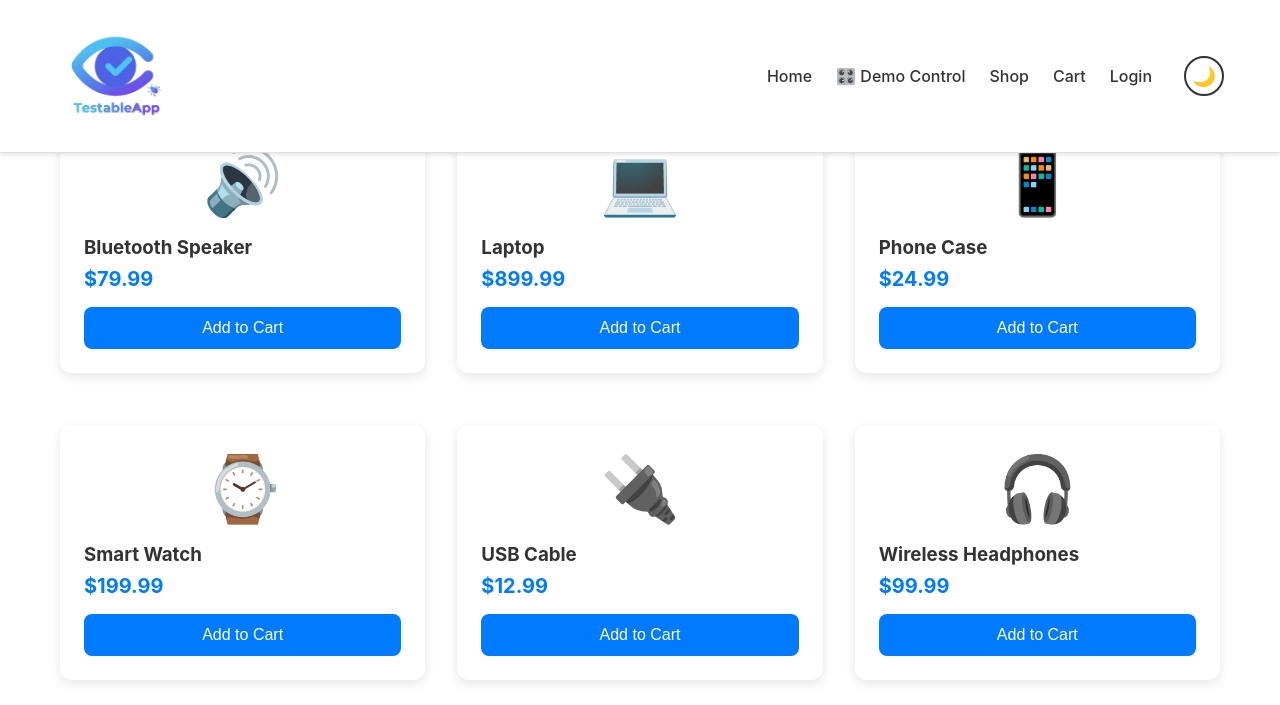
Shopping Flow › Cart Page › should display cart items correctly
The width and height of the screenshot is (1280, 705).
(page scrolled)
Click the button with test id "add-to-cart-1" at (1038, 635), box x1=879 y1=614 x2=1196 y2=656
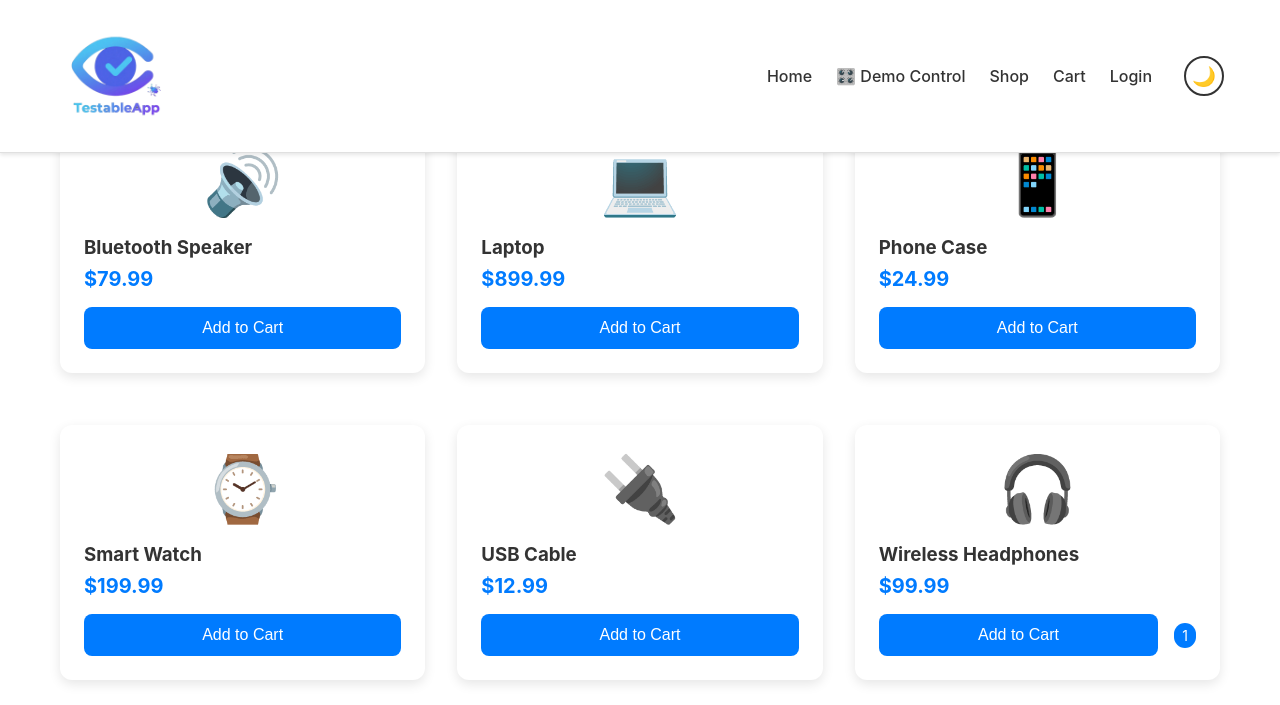
Open "/shop"
(page scrolled)
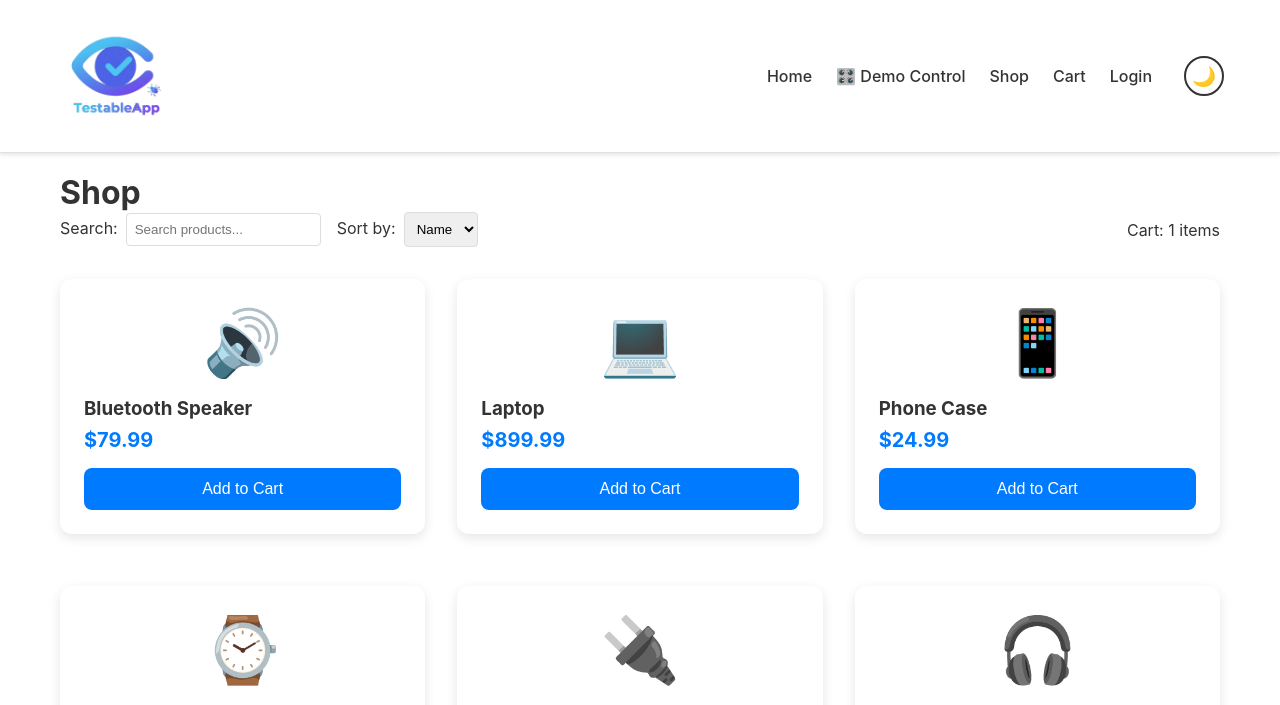
Scroll
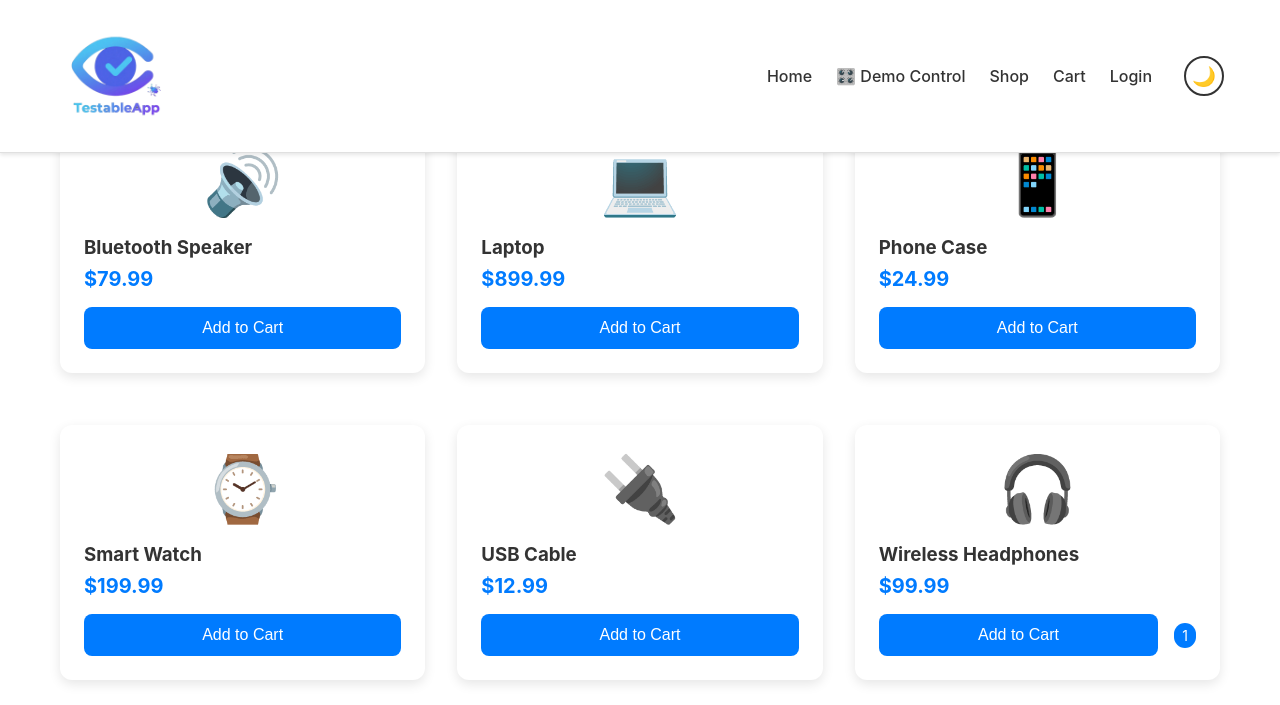
Click the button with test id "add-to-cart-2" at (243, 635), box x1=84 y1=614 x2=401 y2=656
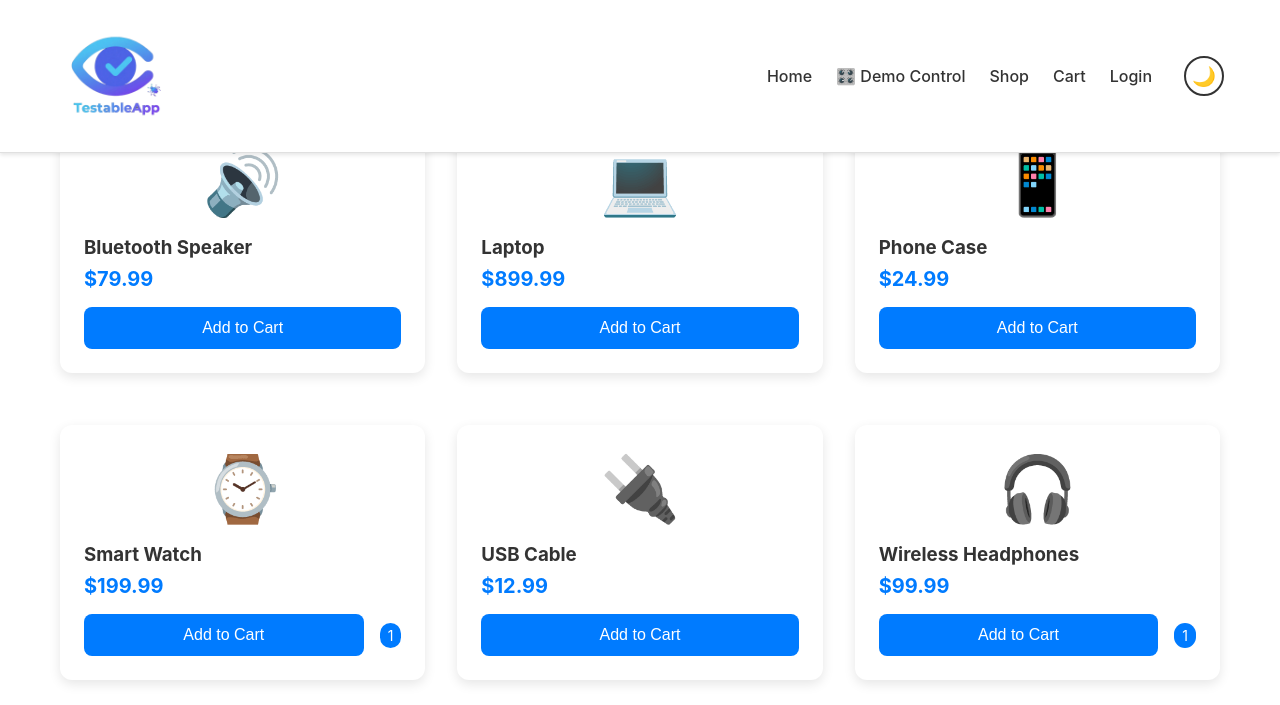
Open "/cart"
(page scrolled)
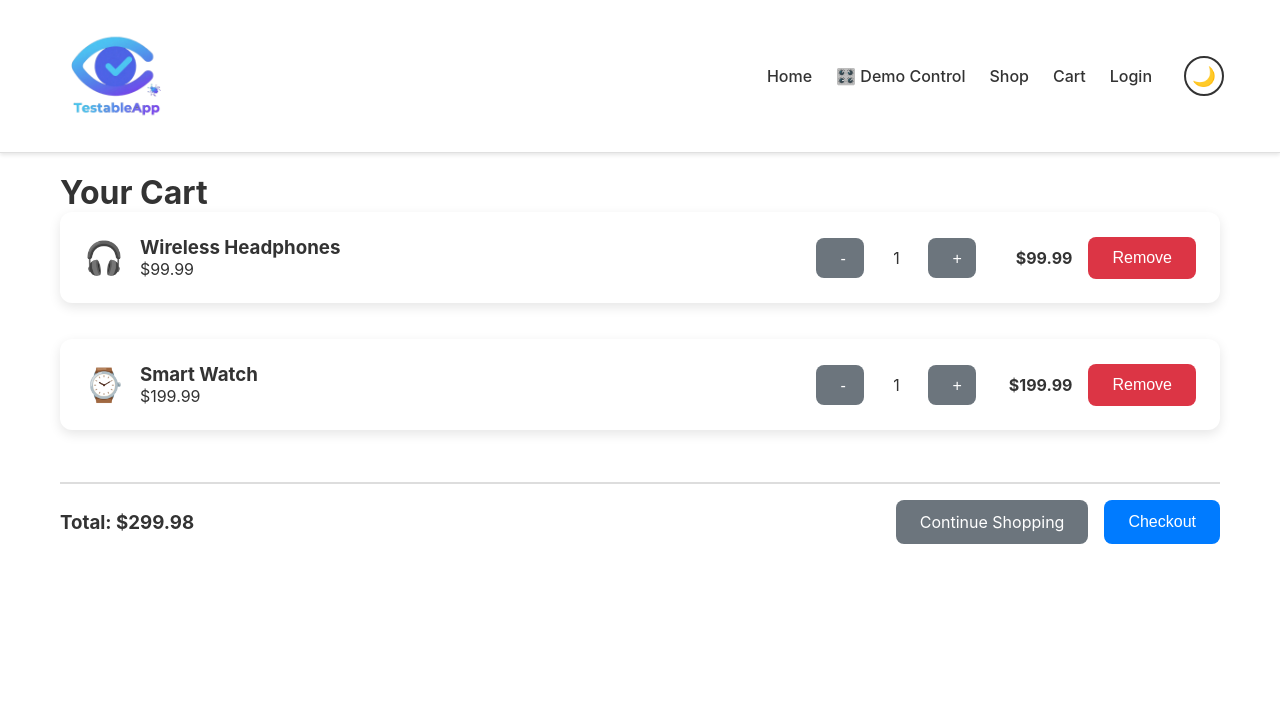
Now the element with test id "cart-item-1" is shown, box x1=60 y1=212 x2=1220 y2=303
Now the element with test id "cart-item-2" is shown, box x1=60 y1=339 x2=1220 y2=430
Now the text with test id "item-price-1" reads "$99.99", box x1=140 y1=259 x2=194 y2=279
